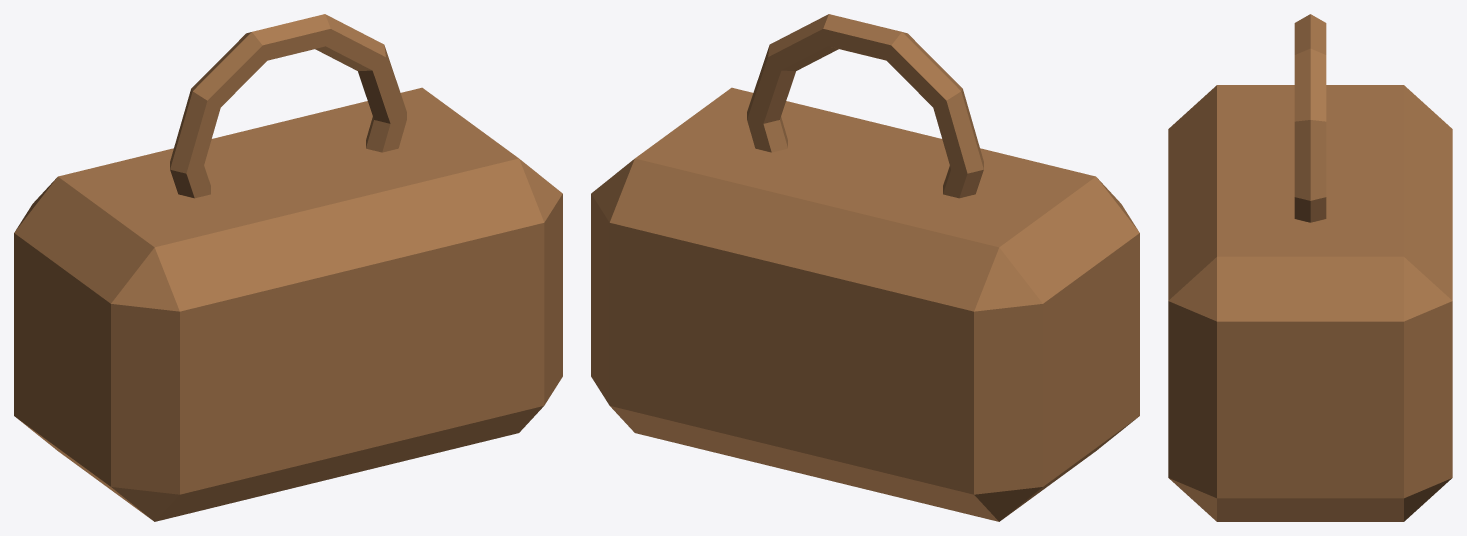
File: bag.glb
3 views of the same model, side by side, from view 1: azimuth 30°, elevation 25°; view 2: azimuth 150°, elevation 25°; view 3: azimuth 270°, elevation 25° (orthographic). The views are drawn at different scales.
Parts seen in each view (by area): view 1: Bag, BagHandle; view 2: Bag, BagHandle; view 3: Bag, BagHandle.
Boxes of the visible parts, x1,y1,x2,y2 form: Bag: (14, 87, 562, 521); BagHandle: (170, 14, 406, 198); Bag: (591, 87, 1139, 521); BagHandle: (747, 14, 983, 198); Bag: (1168, 85, 1452, 521); BagHandle: (1294, 14, 1326, 222).
Size of the model in its own units: 1.24 by 1.1 by 0.7.
